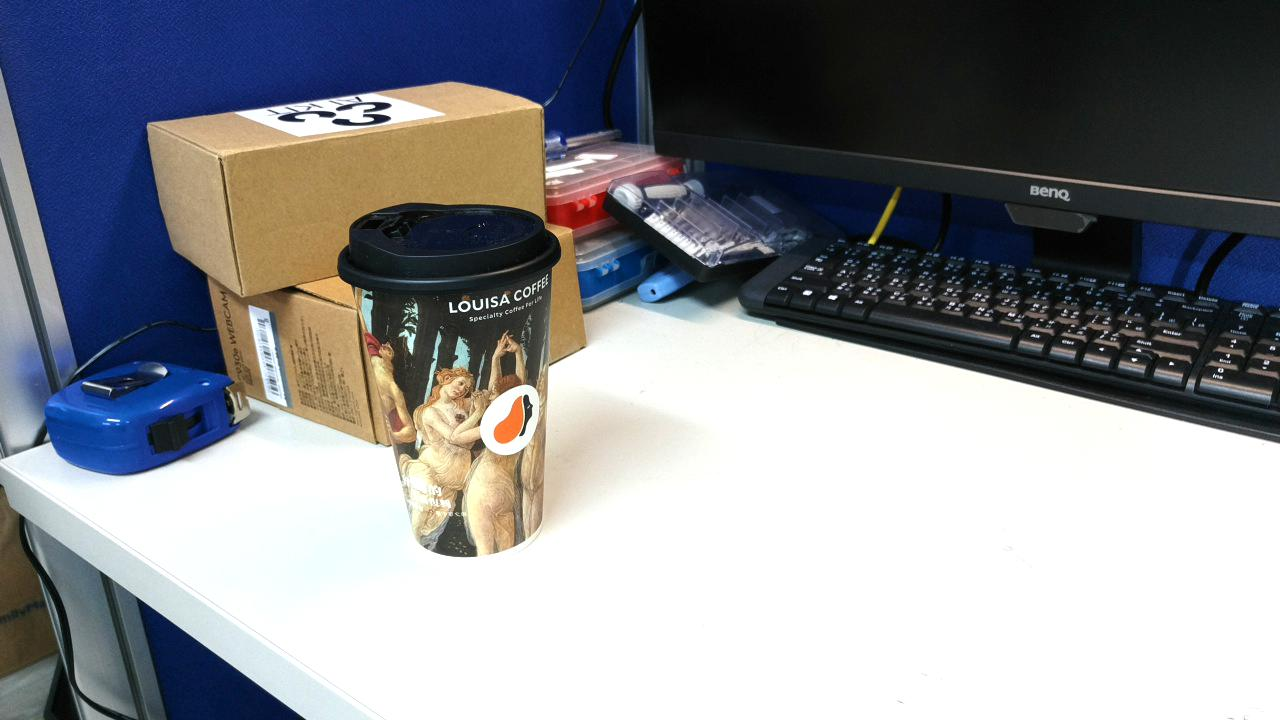long: (566, 317, 817, 459)
